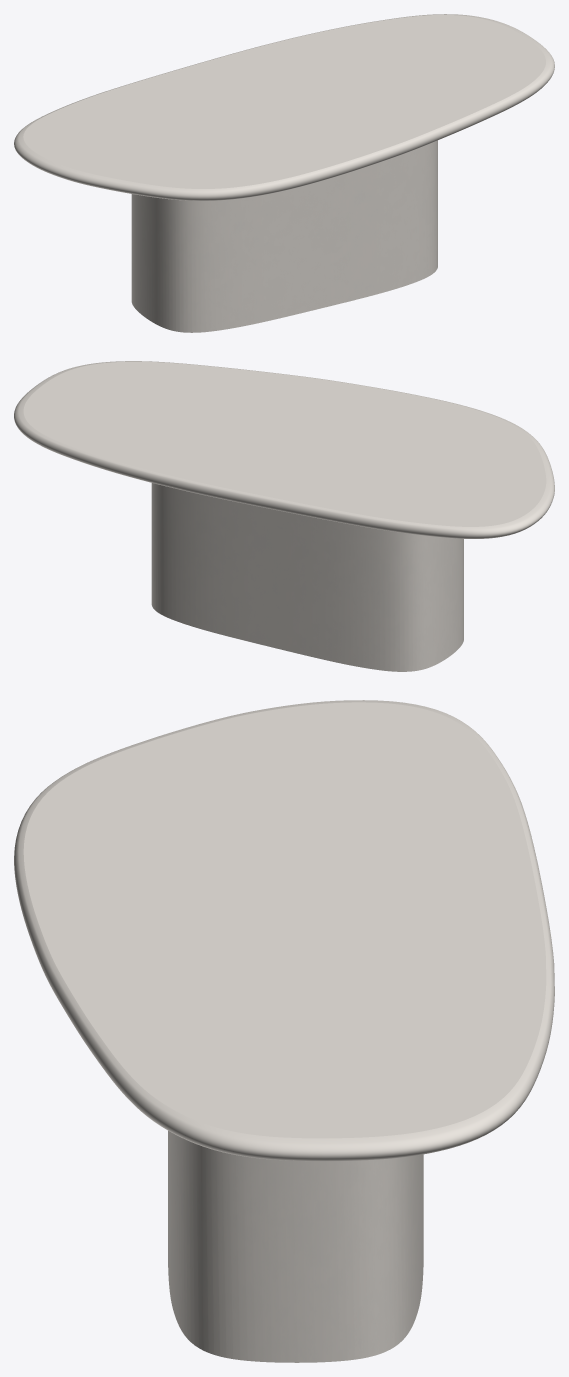
Rendered from pearlwhite_leaf2_round_fixed.glb.
The picture shows the model from 3 angles, top to bottom: view 1: azimuth 30°, elevation 25°; view 2: azimuth 150°, elevation 25°; view 3: azimuth 270°, elevation 25°; orthographic projection. The views are drawn at different scales.
Parts seen in each view (by area): view 1: round_leaf2, fixed; view 2: round_leaf2, fixed; view 3: round_leaf2, fixed.
Boxes of the visible parts, bbox=[...] form: round_leaf2: bbox=[14, 14, 554, 200]; fixed: bbox=[131, 140, 437, 332]; round_leaf2: bbox=[14, 361, 554, 538]; fixed: bbox=[151, 483, 463, 671]; round_leaf2: bbox=[14, 700, 554, 1161]; fixed: bbox=[168, 1131, 423, 1362].
Bounding box in the file's own units: 7.5 × 2.52 × 3.8.
Materials: 1 (1 with a texture image).
